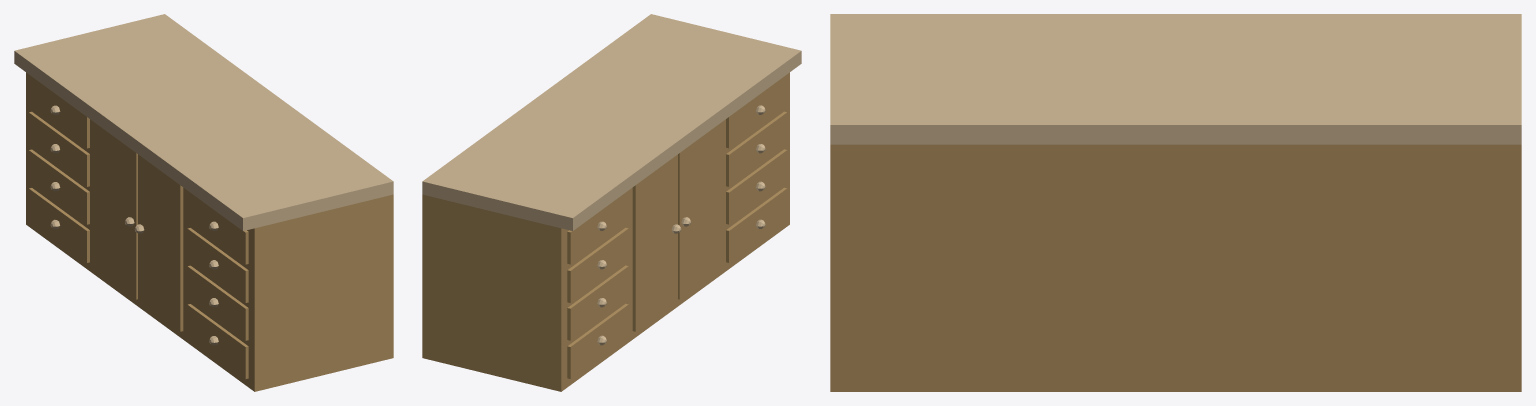
Rendered from countertop_breakroom.fbx.
The picture shows the model from 3 angles, left to right: view 1: azimuth 30°, elevation 25°; view 2: azimuth 150°, elevation 25°; view 3: azimuth 270°, elevation 25°; orthographic projection. The views are drawn at different scales.
Parts seen in each view (by area): view 1: countertop; view 2: countertop; view 3: countertop.
Part boxes in pixels (x1=…): countertop: x1=14, y1=14, x2=393, y2=391; countertop: x1=422, y1=14, x2=801, y2=391; countertop: x1=830, y1=14, x2=1521, y2=391.
Bounding box in the file's own units: 0.8666 × 0.9715 × 2.28.
